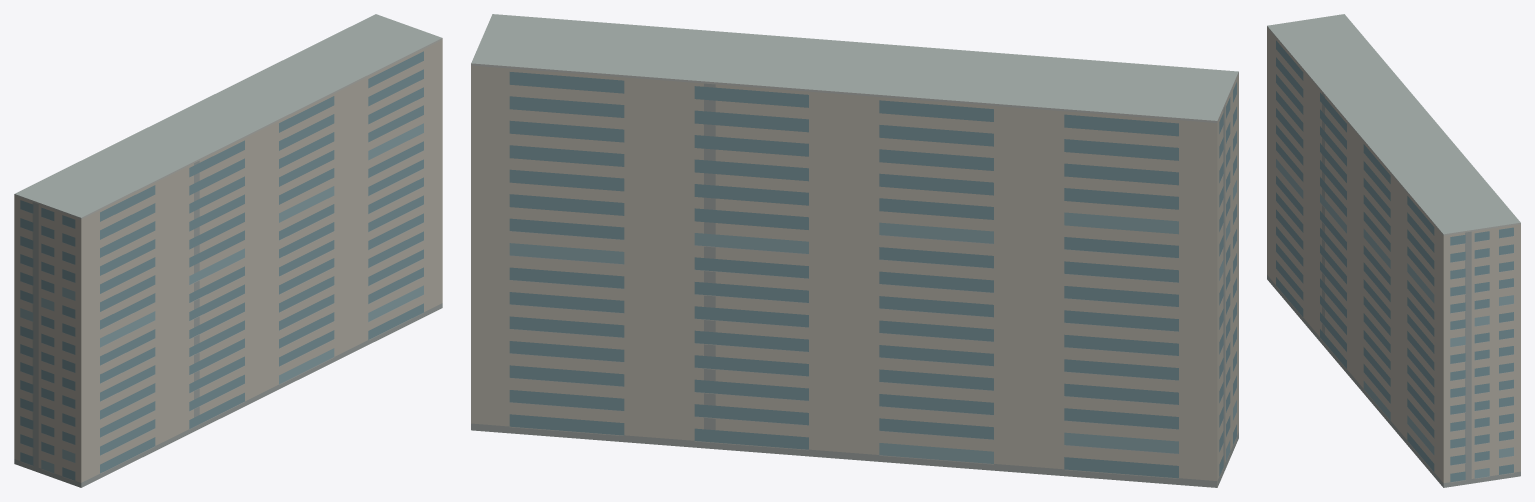
Rendered from residential-889bd1cb-1e04-4714-a081-de88c328b6ac.glb.
3 renders of one model, left to right at view 1: azimuth 30°, elevation 25°; view 2: azimuth 150°, elevation 25°; view 3: azimuth 270°, elevation 25°, orthographic. The views are drawn at different scales.
Parts seen in each view (by area): view 1: residential-889bd1cb-1e04-4714-a081-de88c328b6ac.tmp; view 2: residential-889bd1cb-1e04-4714-a081-de88c328b6ac.tmp; view 3: residential-889bd1cb-1e04-4714-a081-de88c328b6ac.tmp.
Part boxes in pixels (left/top/right/bottom): residential-889bd1cb-1e04-4714-a081-de88c328b6ac.tmp: left=14, top=14, right=442, bottom=487; residential-889bd1cb-1e04-4714-a081-de88c328b6ac.tmp: left=471, top=14, right=1238, bottom=487; residential-889bd1cb-1e04-4714-a081-de88c328b6ac.tmp: left=1267, top=14, right=1520, bottom=487.
Size of the model in its own units: 76.4 by 41 by 37.2.
